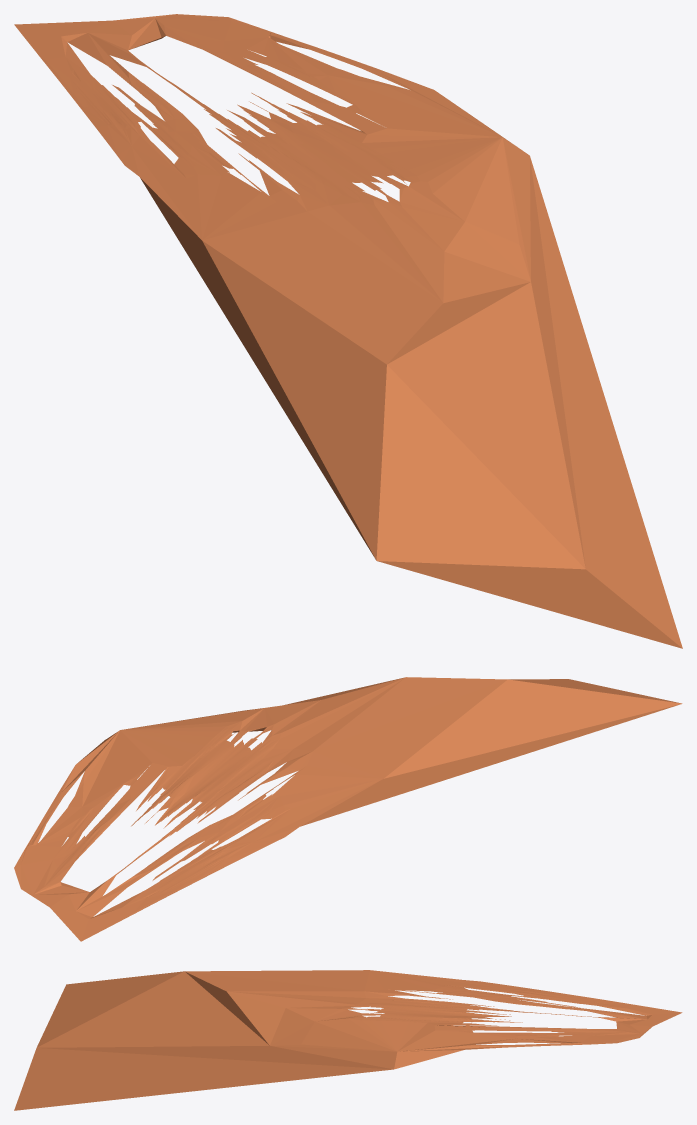
3 views of the same model, one above another, from view 1: azimuth 30°, elevation 25°; view 2: azimuth 150°, elevation 25°; view 3: azimuth 270°, elevation 25° (orthographic). The views are drawn at different scales.
Visible parts, largest first — view 1: geometry_0; view 2: geometry_0; view 3: geometry_0.
Boxes of the visible parts, left/top/right/bottom form: geometry_0: left=14, top=14, right=682, bottom=648; geometry_0: left=14, top=677, right=682, bottom=941; geometry_0: left=14, top=970, right=682, bottom=1110.
Bounding box in the file's own units: 0.4983 × 0.2134 × 1.18.
